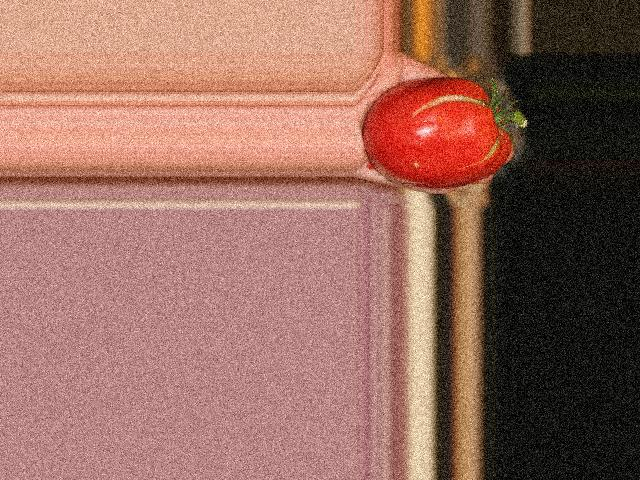tomato: (363, 79, 512, 189)
